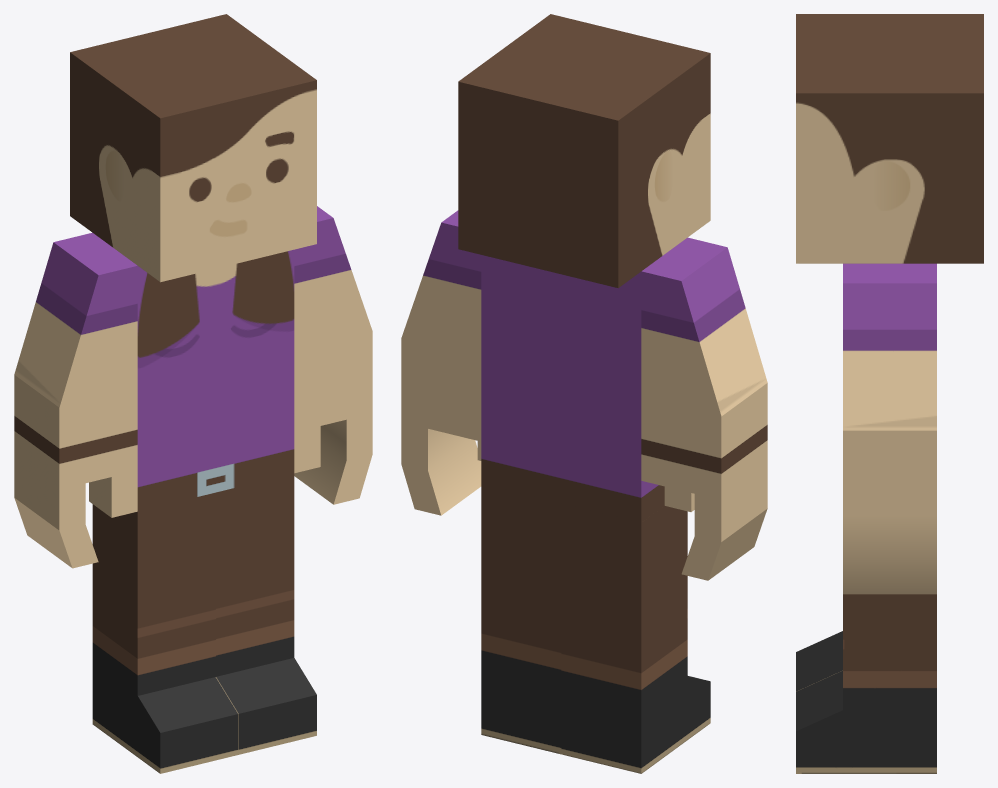
File: advanced_womanAlternative.glb
3 renders of one model, left to right at view 1: azimuth 30°, elevation 25°; view 2: azimuth 150°, elevation 25°; view 3: azimuth 270°, elevation 25°, orthographic. The views are drawn at different scales.
Visible parts, largest first — view 1: Head1, Body1, ArmRight1, LegRight1, LegLeft1, ArmLeft1; view 2: Head1, Body1, ArmRight1, LegRight1, LegLeft1, ArmLeft1; view 3: Head1, ArmLeft1, LegLeft1, LegRight1.
Boxes of the visible parts, <box> form: Head1: <box>70,14,316,282</box>; Body1: <box>137,249,294,511</box>; ArmRight1: <box>14,232,137,568</box>; LegRight1: <box>92,492,238,773</box>; LegLeft1: <box>216,473,316,754</box>; ArmLeft1: <box>294,206,372,504</box>; Head1: <box>458,14,710,287</box>; Body1: <box>481,255,664,522</box>; ArmRight1: <box>641,237,767,580</box>; LegRight1: <box>561,503,710,773</box>; LegLeft1: <box>481,483,561,754</box>; ArmLeft1: <box>401,210,481,515</box>; Head1: <box>796,14,983,263</box>; ArmLeft1: <box>843,263,936,594</box>; LegLeft1: <box>796,594,936,773</box>; LegRight1: <box>796,631,842,691</box>.
Size of the model in its own units: 8 by 16 by 4.
Materials: 1 (1 with a texture image).
